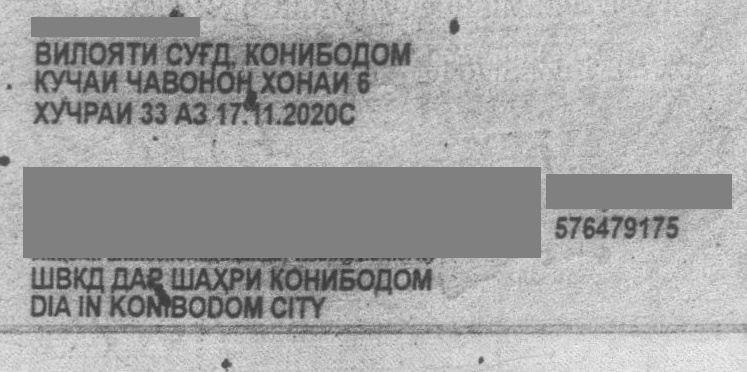0: (293, 90, 309, 132), (324, 90, 336, 132)
1: (216, 90, 232, 132), (253, 90, 265, 132), (637, 213, 653, 241), (264, 90, 274, 132)
2: (309, 90, 325, 132), (282, 90, 294, 132)
3: (138, 90, 154, 132), (154, 90, 170, 132)
4: (592, 213, 612, 241)
5: (554, 213, 572, 241), (665, 213, 683, 241)
6: (581, 213, 599, 241), (356, 62, 368, 102)
7: (230, 90, 242, 132), (567, 213, 585, 241), (609, 213, 627, 241), (651, 213, 669, 241)
9: (621, 213, 641, 241)
А: (172, 91, 194, 131), (194, 257, 214, 301), (128, 256, 146, 300), (141, 62, 161, 100), (81, 62, 99, 100), (312, 63, 330, 101), (98, 91, 114, 131)
Б: (338, 258, 358, 302), (314, 34, 334, 72)
В: (51, 256, 71, 300), (159, 62, 177, 100), (37, 33, 53, 71)
Д: (87, 256, 113, 300), (110, 256, 130, 300), (371, 258, 391, 302), (351, 35, 371, 73), (215, 34, 231, 72)
З: (194, 91, 210, 131)
И: (112, 91, 140, 131), (140, 33, 166, 71), (317, 258, 337, 302), (51, 33, 71, 71), (296, 34, 316, 72), (245, 257, 261, 301), (100, 62, 116, 100), (331, 63, 347, 101)
К: (69, 256, 87, 300), (241, 34, 261, 72), (271, 257, 287, 301), (35, 62, 51, 100)
Л: (69, 33, 89, 71)
М: (408, 259, 440, 303), (387, 35, 419, 73)
Н: (300, 258, 320, 302), (277, 34, 297, 72), (197, 62, 217, 100), (235, 62, 255, 100), (294, 62, 314, 100)
О: (392, 258, 412, 302), (283, 258, 301, 302), (355, 258, 373, 302), (87, 33, 107, 71), (256, 34, 276, 72), (331, 34, 351, 72), (370, 35, 390, 73), (177, 62, 197, 100), (214, 62, 234, 100), (275, 62, 293, 100)
Р: (81, 91, 101, 131), (147, 256, 163, 300), (228, 257, 244, 301)
С: (166, 33, 186, 71)
Т: (126, 33, 144, 71)
У: (50, 91, 66, 131), (185, 33, 201, 71), (48, 62, 64, 100)
Х: (36, 91, 52, 131), (263, 62, 279, 100)
Ч: (118, 62, 142, 100), (63, 62, 83, 100), (61, 91, 79, 131)
Ш: (161, 257, 193, 301), (33, 256, 51, 300)
Я: (104, 33, 124, 71)
Ғ: (200, 34, 216, 72)
Ҳ: (214, 257, 230, 301)
